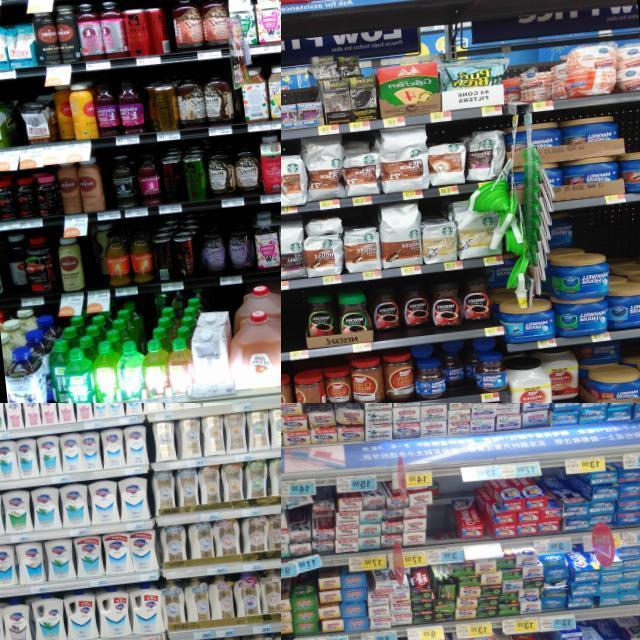Imprecise: (544, 214, 604, 342), (492, 256, 554, 342), (573, 338, 640, 401), (440, 339, 474, 397), (84, 226, 110, 286), (2, 231, 26, 296)
